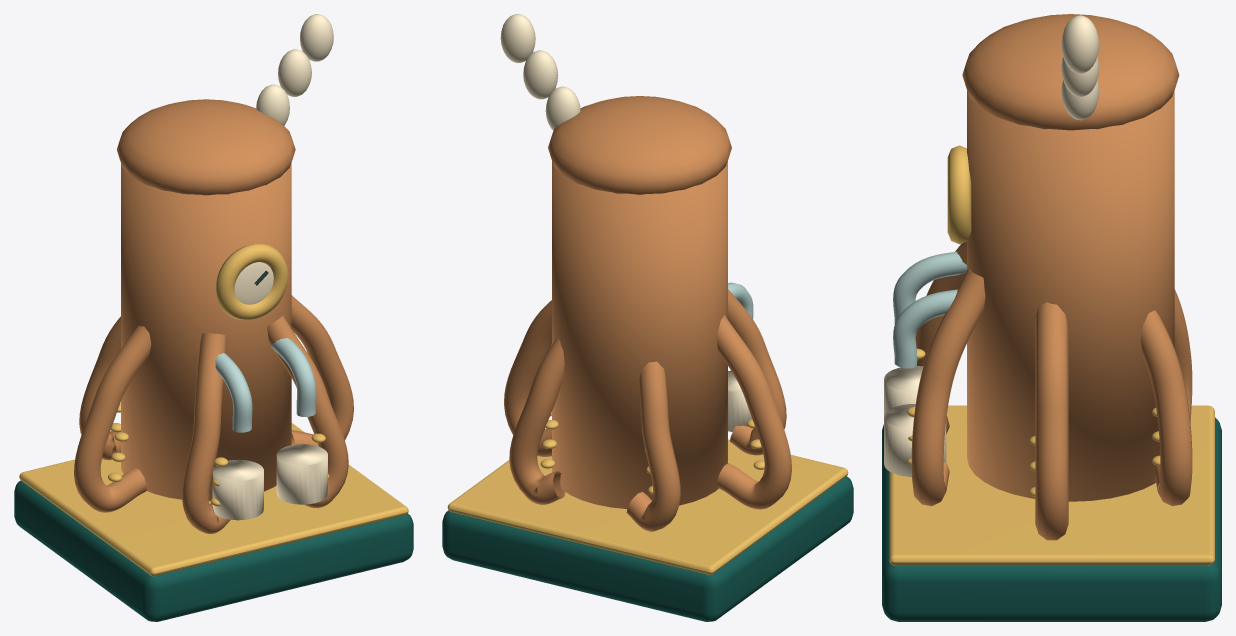
The picture shows the model from 3 angles, left to right: view 1: azimuth 30°, elevation 25°; view 2: azimuth 150°, elevation 25°; view 3: azimuth 270°, elevation 25°; orthographic projection. The views are drawn at different scales.
Visible parts, largest first — view 1: Copper espresso boiler, Brass welt, Jade footing, Gauge, Espresso group, Porcelain vapour.002, Porcelain vapour.001, Porcelain vapour; view 2: Copper espresso boiler, Jade footing, Brass welt, Porcelain vapour.001, Porcelain vapour.002, Porcelain vapour, Gauge; view 3: Copper espresso boiler, Brass welt, Jade footing, Espresso group, Gauge, Porcelain vapour.002, Porcelain vapour.001, Porcelain vapour.
Part boxes in pixels (x1,y1,x2,y2): Copper espresso boiler: (74,99,353,533); Brass welt: (19,244,408,576); Jade footing: (14,480,413,621); Gauge: (212,262,327,520); Espresso group: (215,338,316,432); Porcelain vapour.002: (300,14,333,61); Porcelain vapour.001: (278,49,311,96); Porcelain vapour: (256,84,289,125); Copper espresso boiler: (504,96,791,531); Jade footing: (442,476,853,621); Brass welt: (447,411,848,574); Porcelain vapour.001: (523,50,558,99); Porcelain vapour.002: (500,14,535,62); Porcelain vapour: (545,86,580,130); Gauge: (728,370,751,431); Copper espresso boiler: (911,14,1192,540); Brass welt: (889,145,1214,565); Jade footing: (882,417,1221,621); Espresso group: (893,251,966,368); Gauge: (884,366,946,476); Porcelain vapour.002: (1061,15,1098,73); Porcelain vapour.001: (1061,57,1098,96); Porcelain vapour: (1061,80,1099,120).
Size of the model in its own units: 0.8188 by 1.4 by 0.72.
